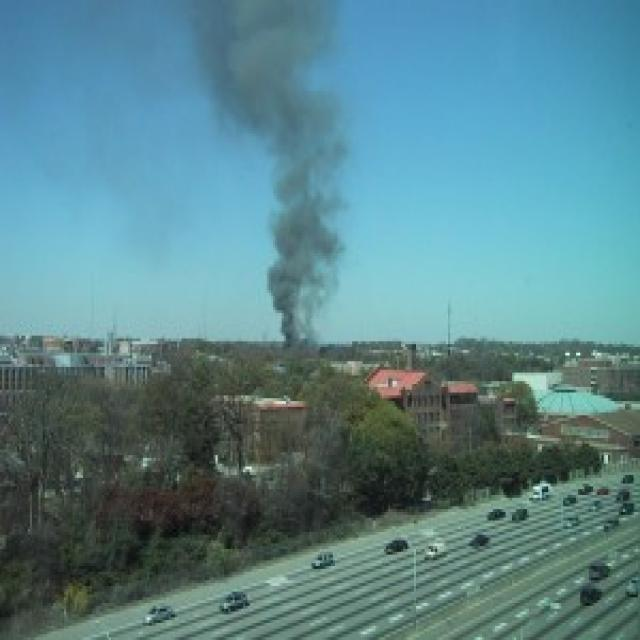Smoke: (225, 9, 360, 324)
